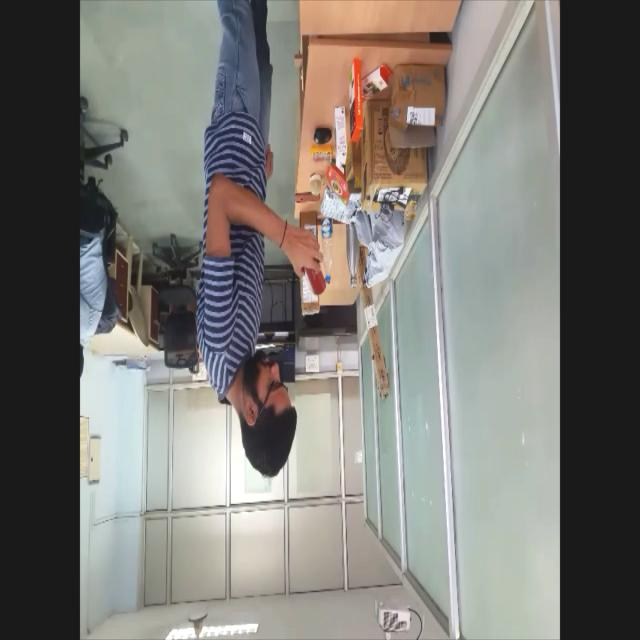normal: (193, 0, 328, 495)
